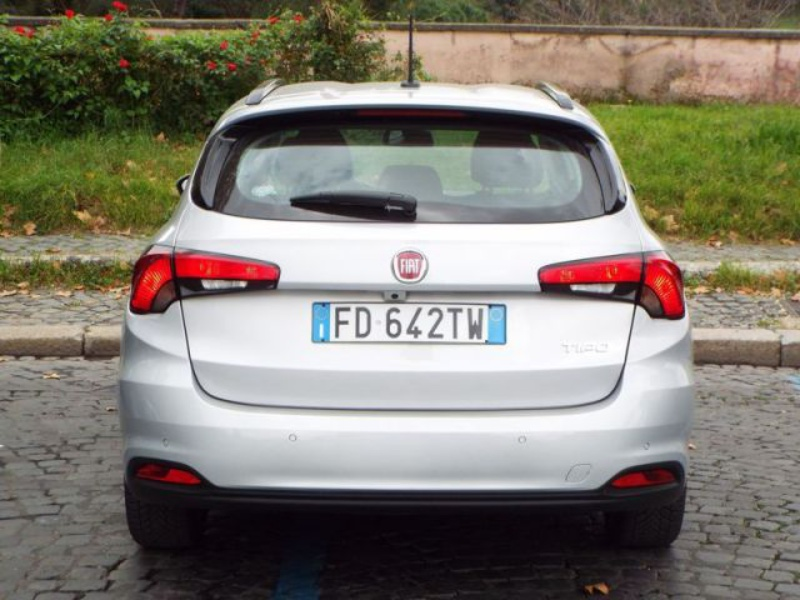licence_plate: (306, 293, 512, 352)
